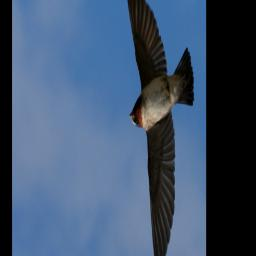Swallow: (126, 0, 197, 256)
